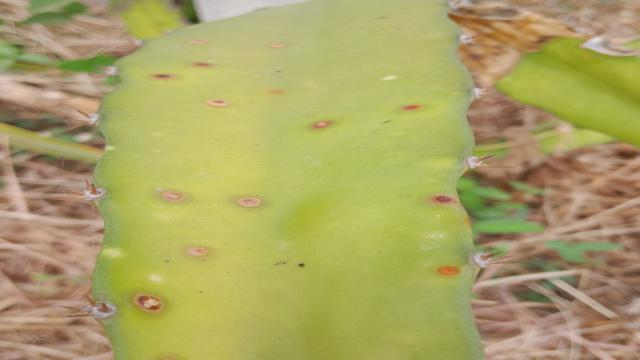stemcanker: (93, 1, 486, 360)
